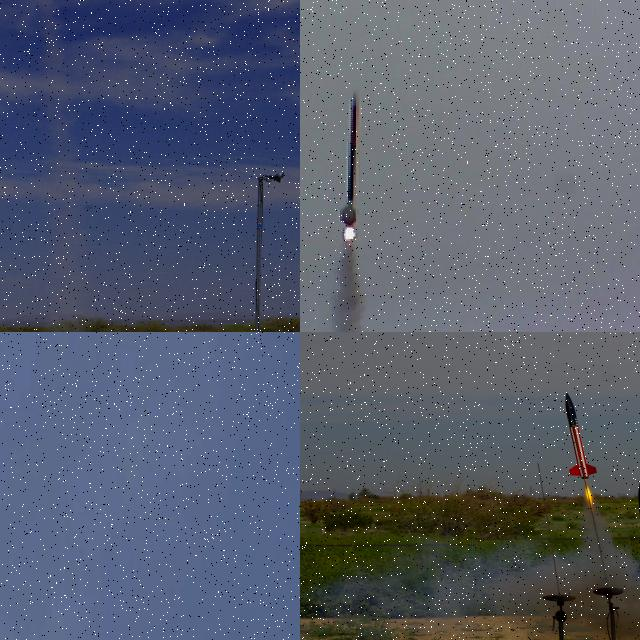Rocket: (564, 392, 599, 479), (338, 89, 359, 226), (629, 474, 640, 582), (274, 636, 278, 640)
